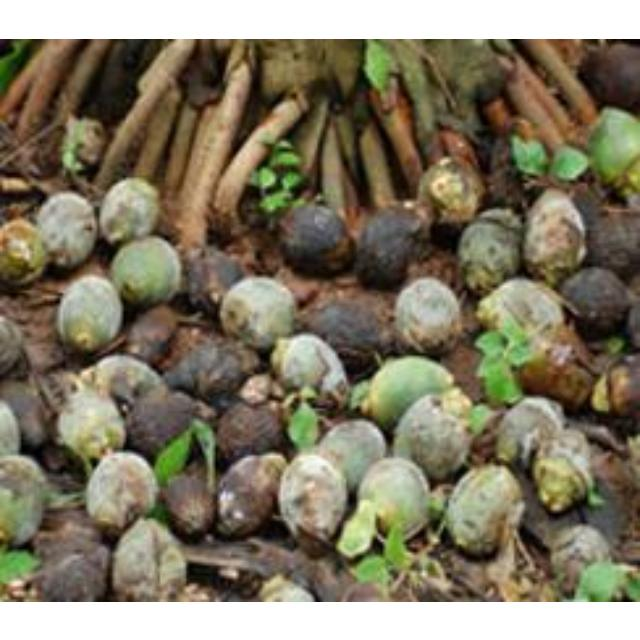damaged: (444, 462, 524, 556), (392, 392, 472, 480), (362, 354, 454, 430), (276, 450, 348, 546), (353, 457, 433, 543), (214, 451, 288, 539), (84, 450, 160, 534), (112, 516, 188, 600), (522, 187, 588, 283), (353, 207, 429, 289), (277, 200, 355, 276), (478, 277, 566, 343), (55, 388, 127, 468), (54, 274, 124, 354), (557, 265, 631, 339), (392, 276, 462, 354), (457, 211, 525, 291), (110, 236, 184, 306), (316, 418, 386, 492), (271, 334, 347, 402), (214, 278, 292, 344), (418, 156, 487, 230), (36, 192, 98, 270), (494, 396, 564, 464), (1, 454, 52, 546), (586, 106, 640, 192), (548, 523, 614, 591), (99, 177, 161, 245), (90, 353, 164, 402), (0, 218, 48, 286)
